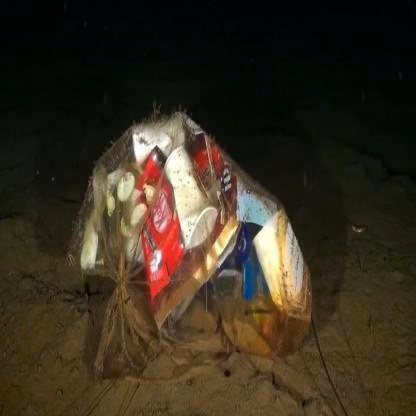plastic: (95, 132, 311, 383)
